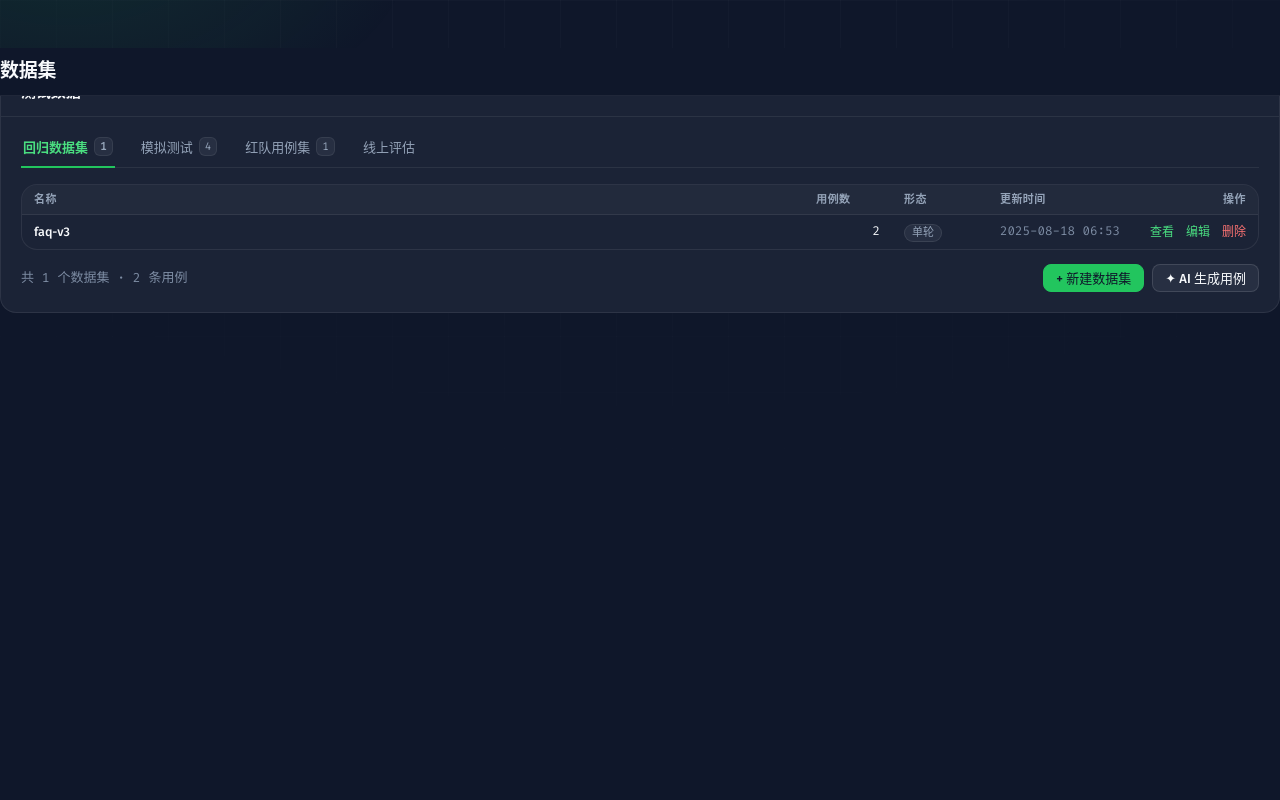
数据集表单抽屉 › UI-003：跨 tab 同名也拦（回归 tab 新建撞模拟集名）
This screenshot has width=1280, height=800.
Expected: the row with test id "dataset-row-faq-v3" is shown, [22,215,1258,249]
Click the button with test id "datasets-new" at (1094, 278), box [1043,264,1144,292]
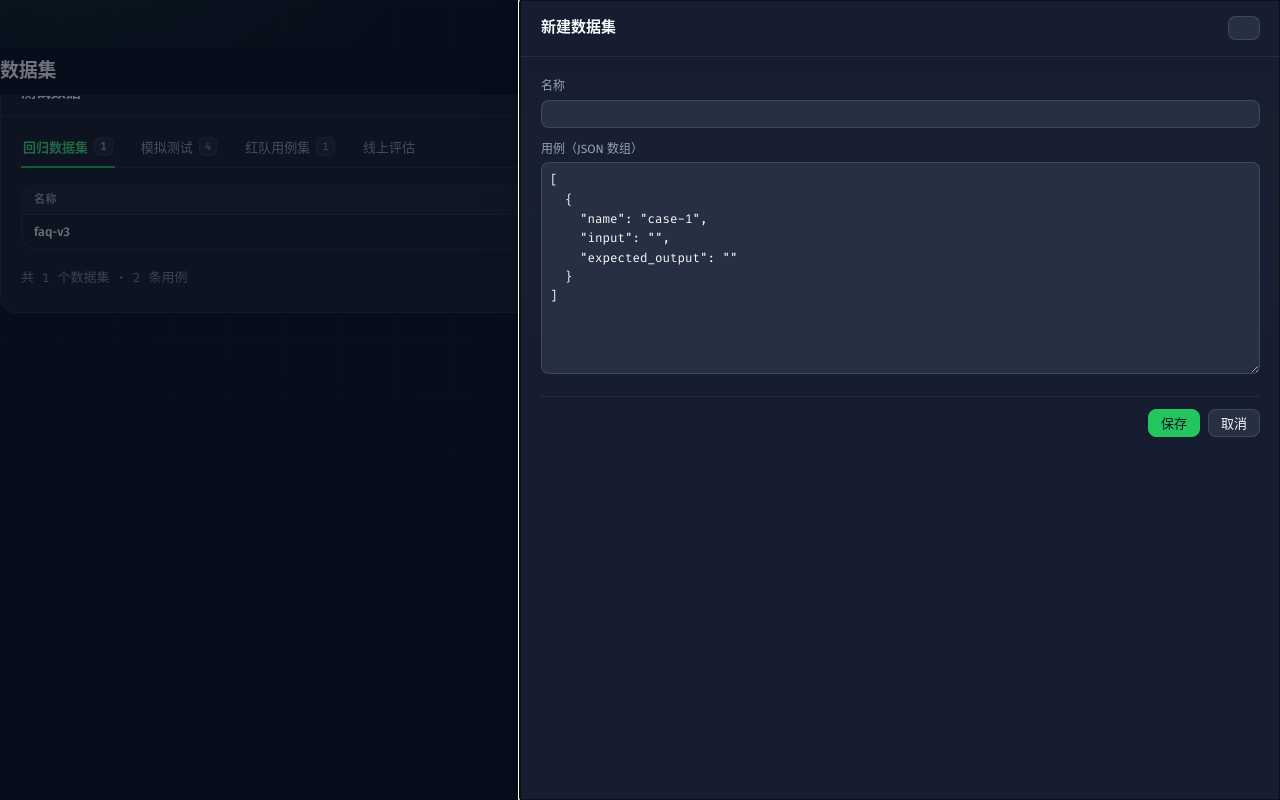
Expected: the element with test id "dataset-form" is shown, [541,77,1260,437]
Note: sim-rebooking 在模拟 tab，但名字空间是全局的（后端一张表一个 sk）
Type "sim-rebooking" into the field with test id "dataset-form-name" at (900, 114), box [541,100,1260,128]
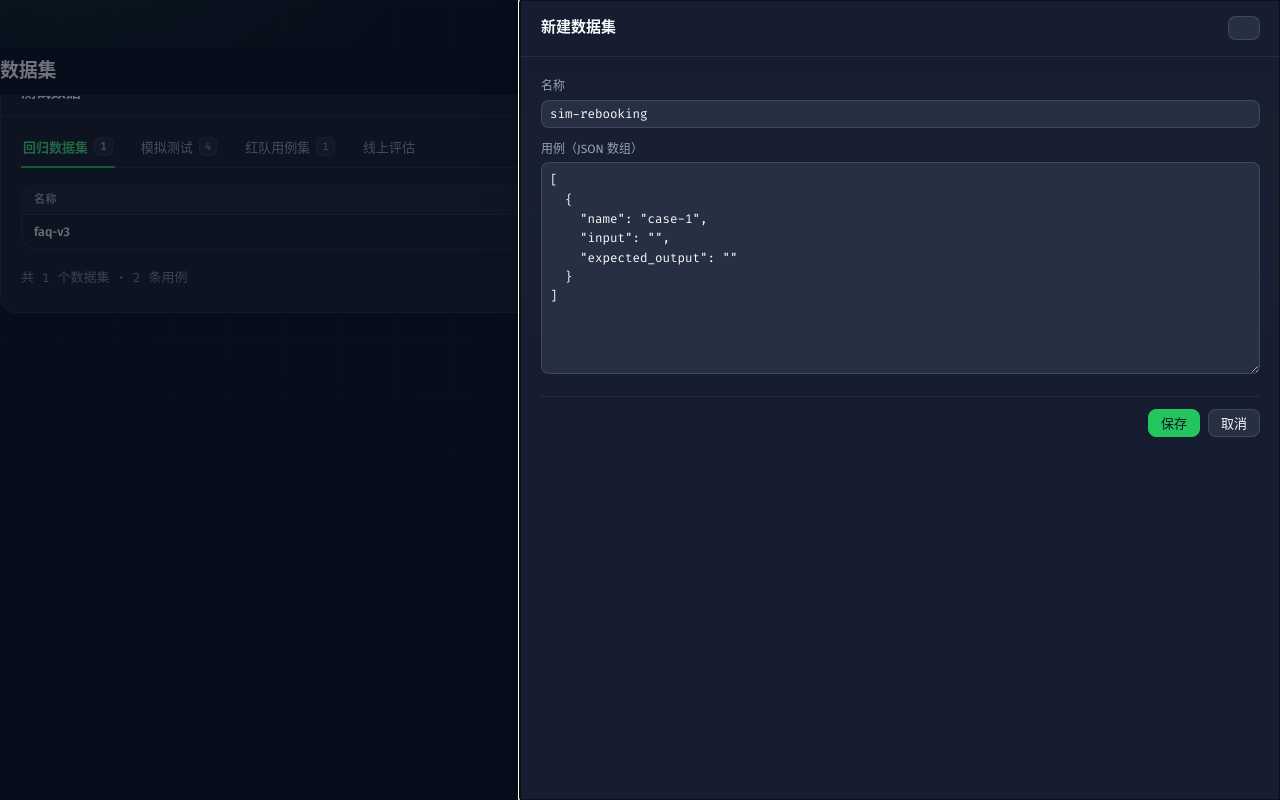
Click the button with test id "dataset-form-save" at (1174, 423), box [1148,409,1200,437]
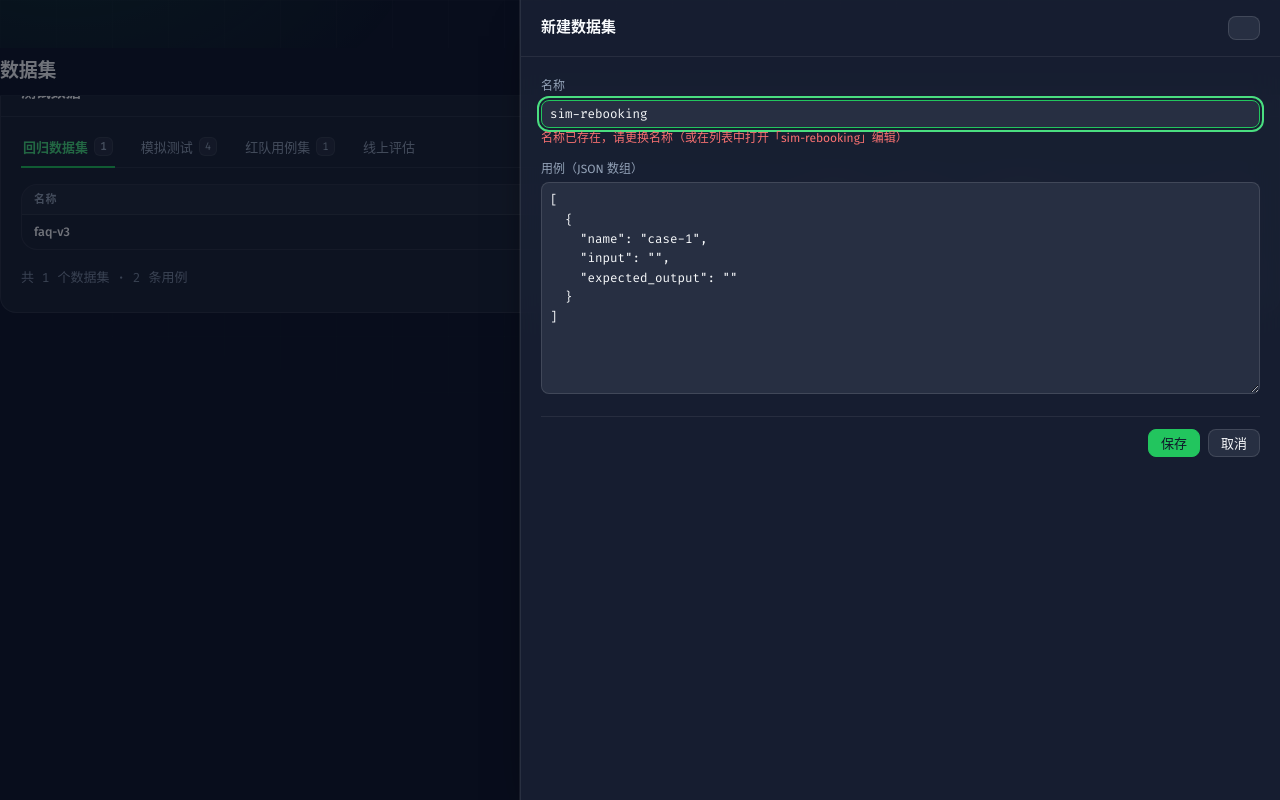
Expected: the message with test id "dataset-form-name-error" shows "名称已存在", [541,131,908,145]
